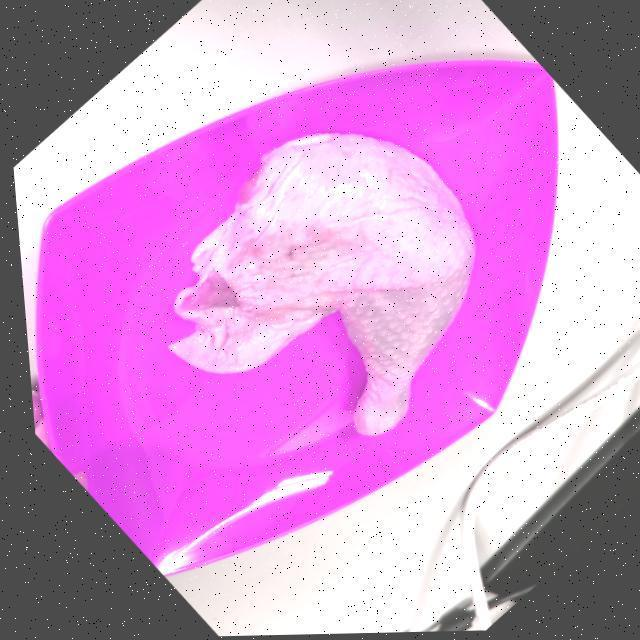quater: (230, 129, 474, 441)
